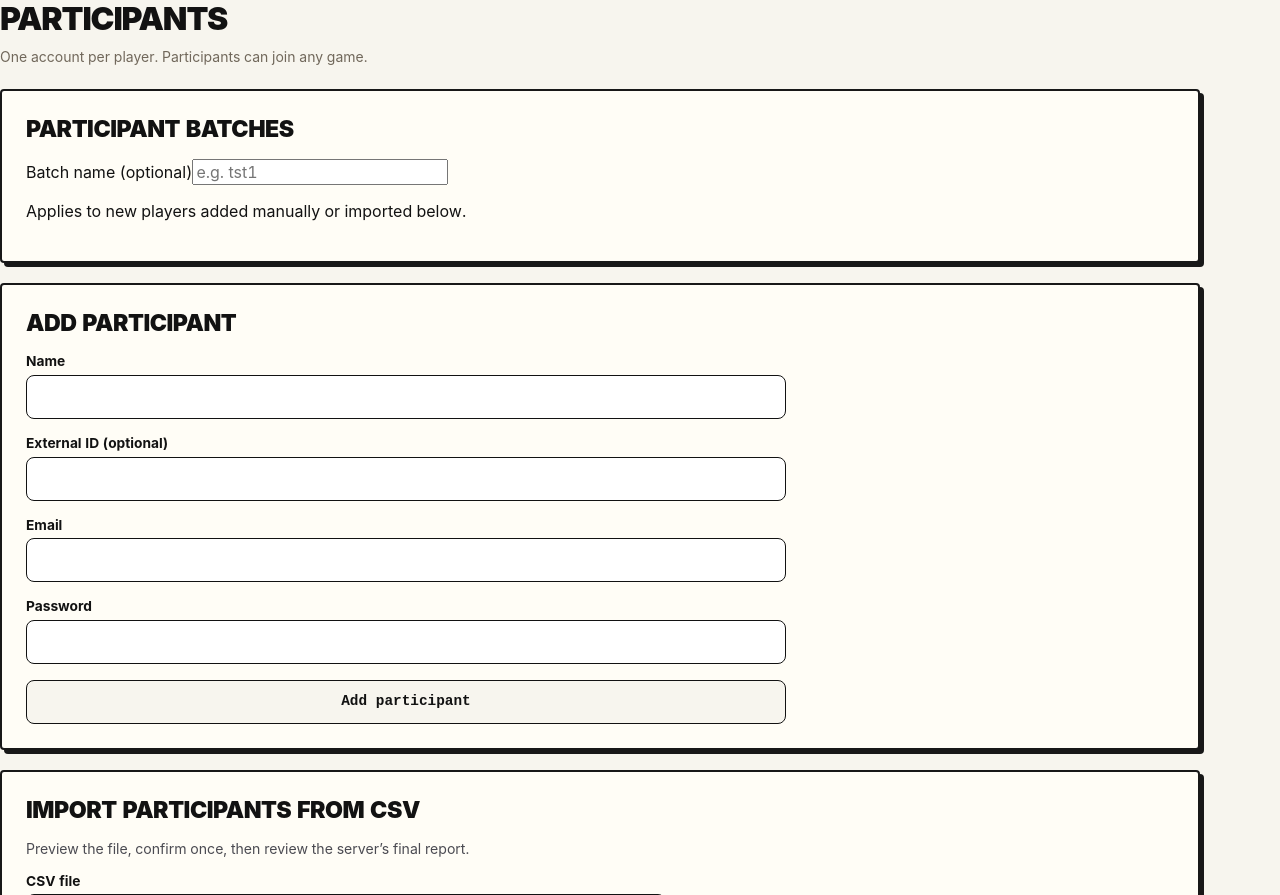
Test: allows an omitted external ID and preserves input after a server error
Type "Test Player" into the field labelled "Name" at coordinates (406, 397), box [26,375,786,419]
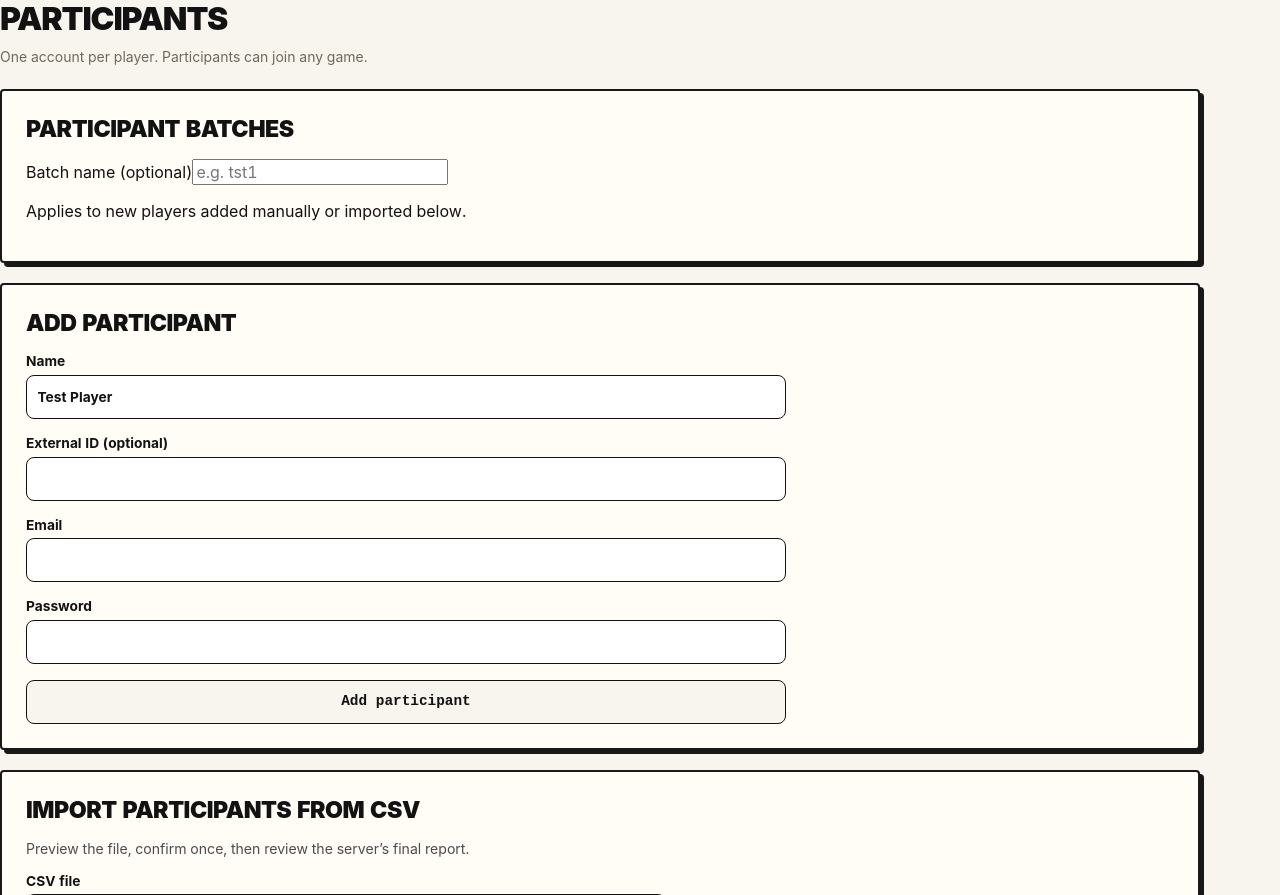
Type "player@example.test" into the field labelled "Email" at coordinates (406, 560), box [26,538,786,582]
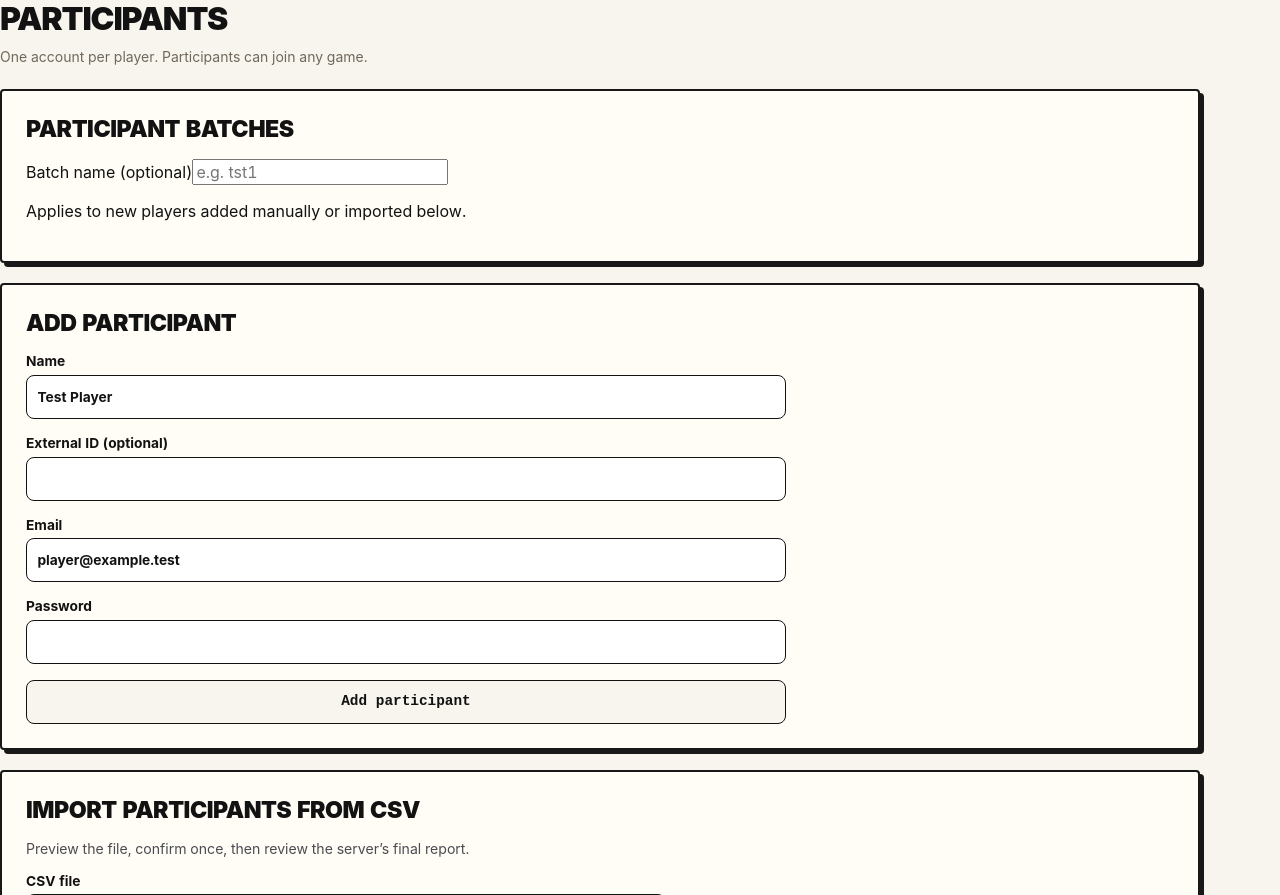
Type "test-password-123" into the password field labelled "Password" at coordinates (406, 642), box [26,620,786,664]
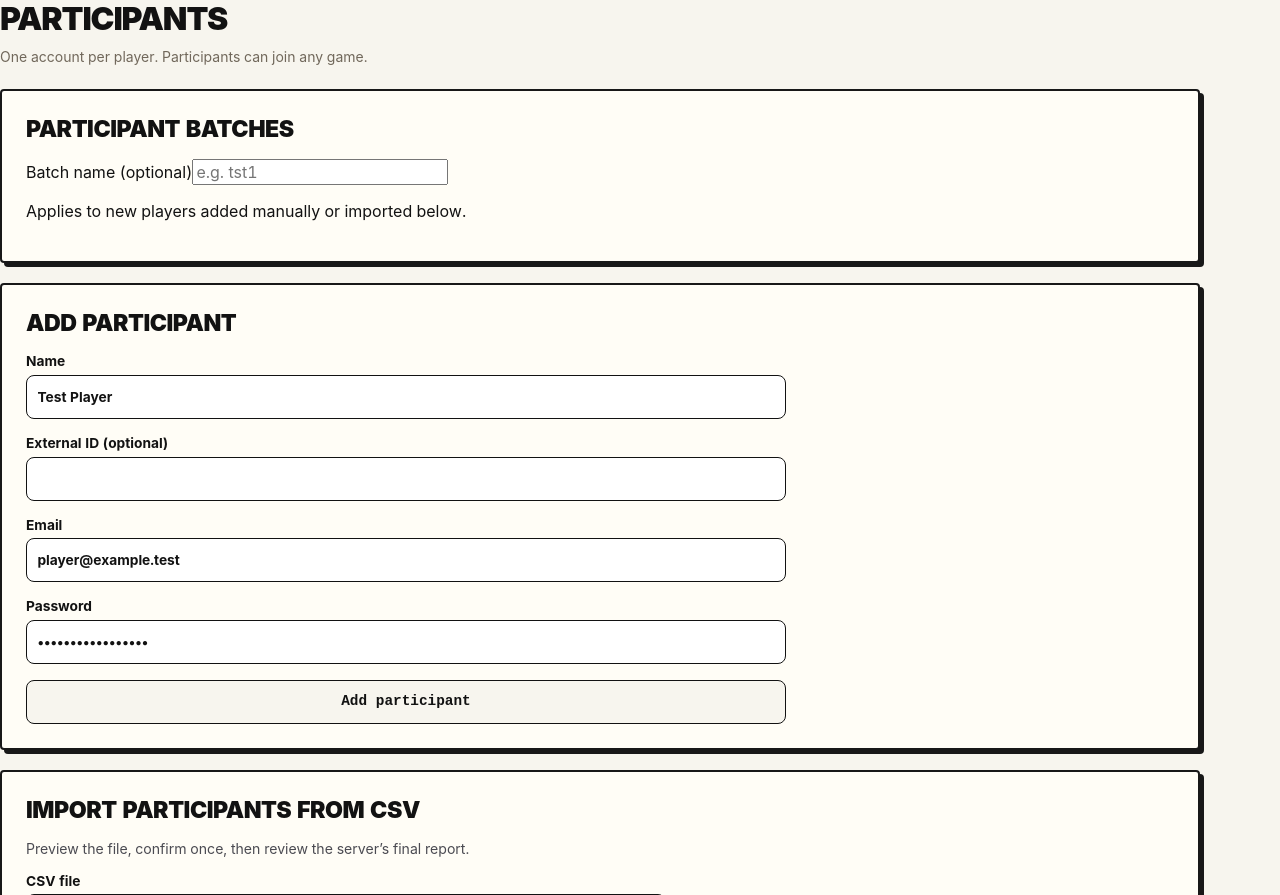
Click the button "Add participant" at coordinates (406, 702), box [26,680,786,724]
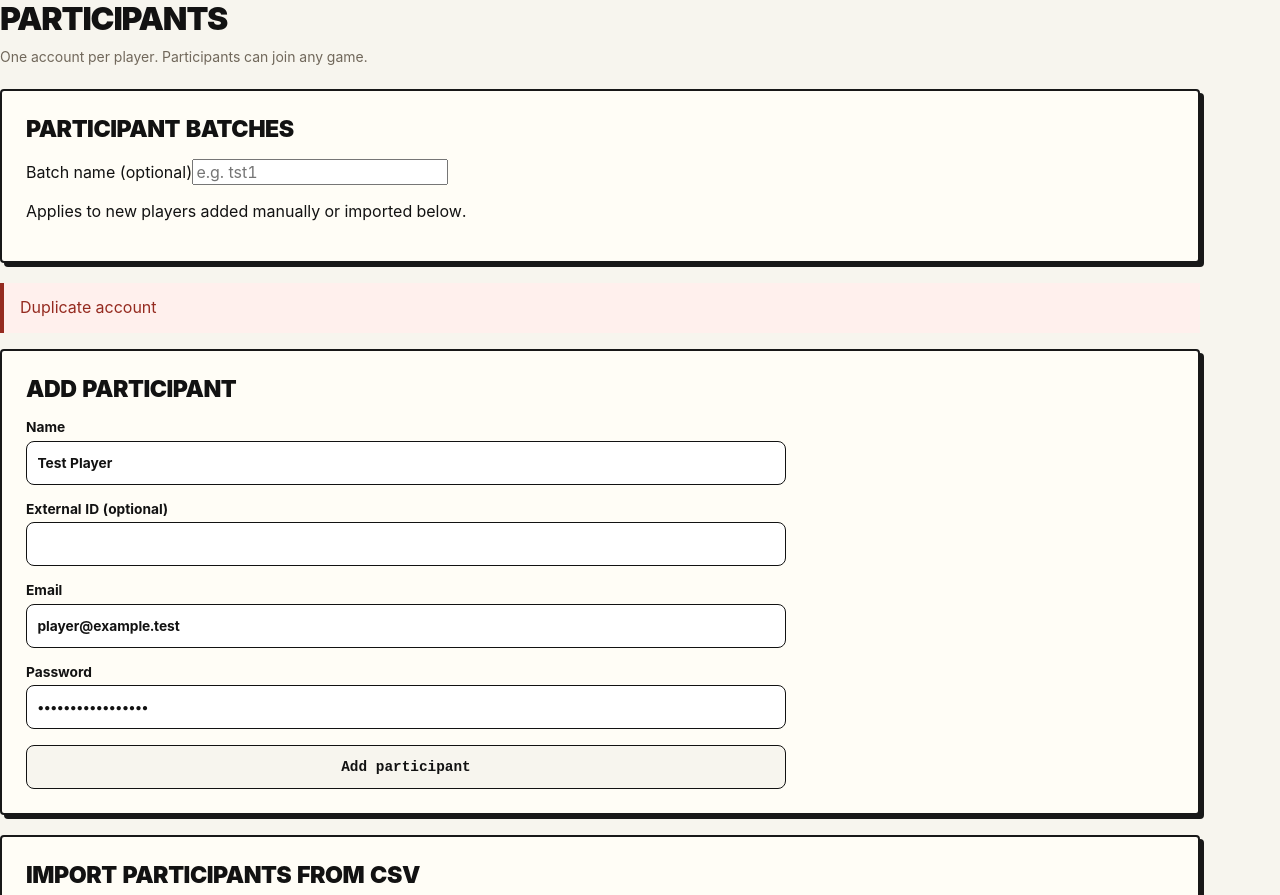
Now the text "Duplicate account" is shown, box [0,283,1200,333]
